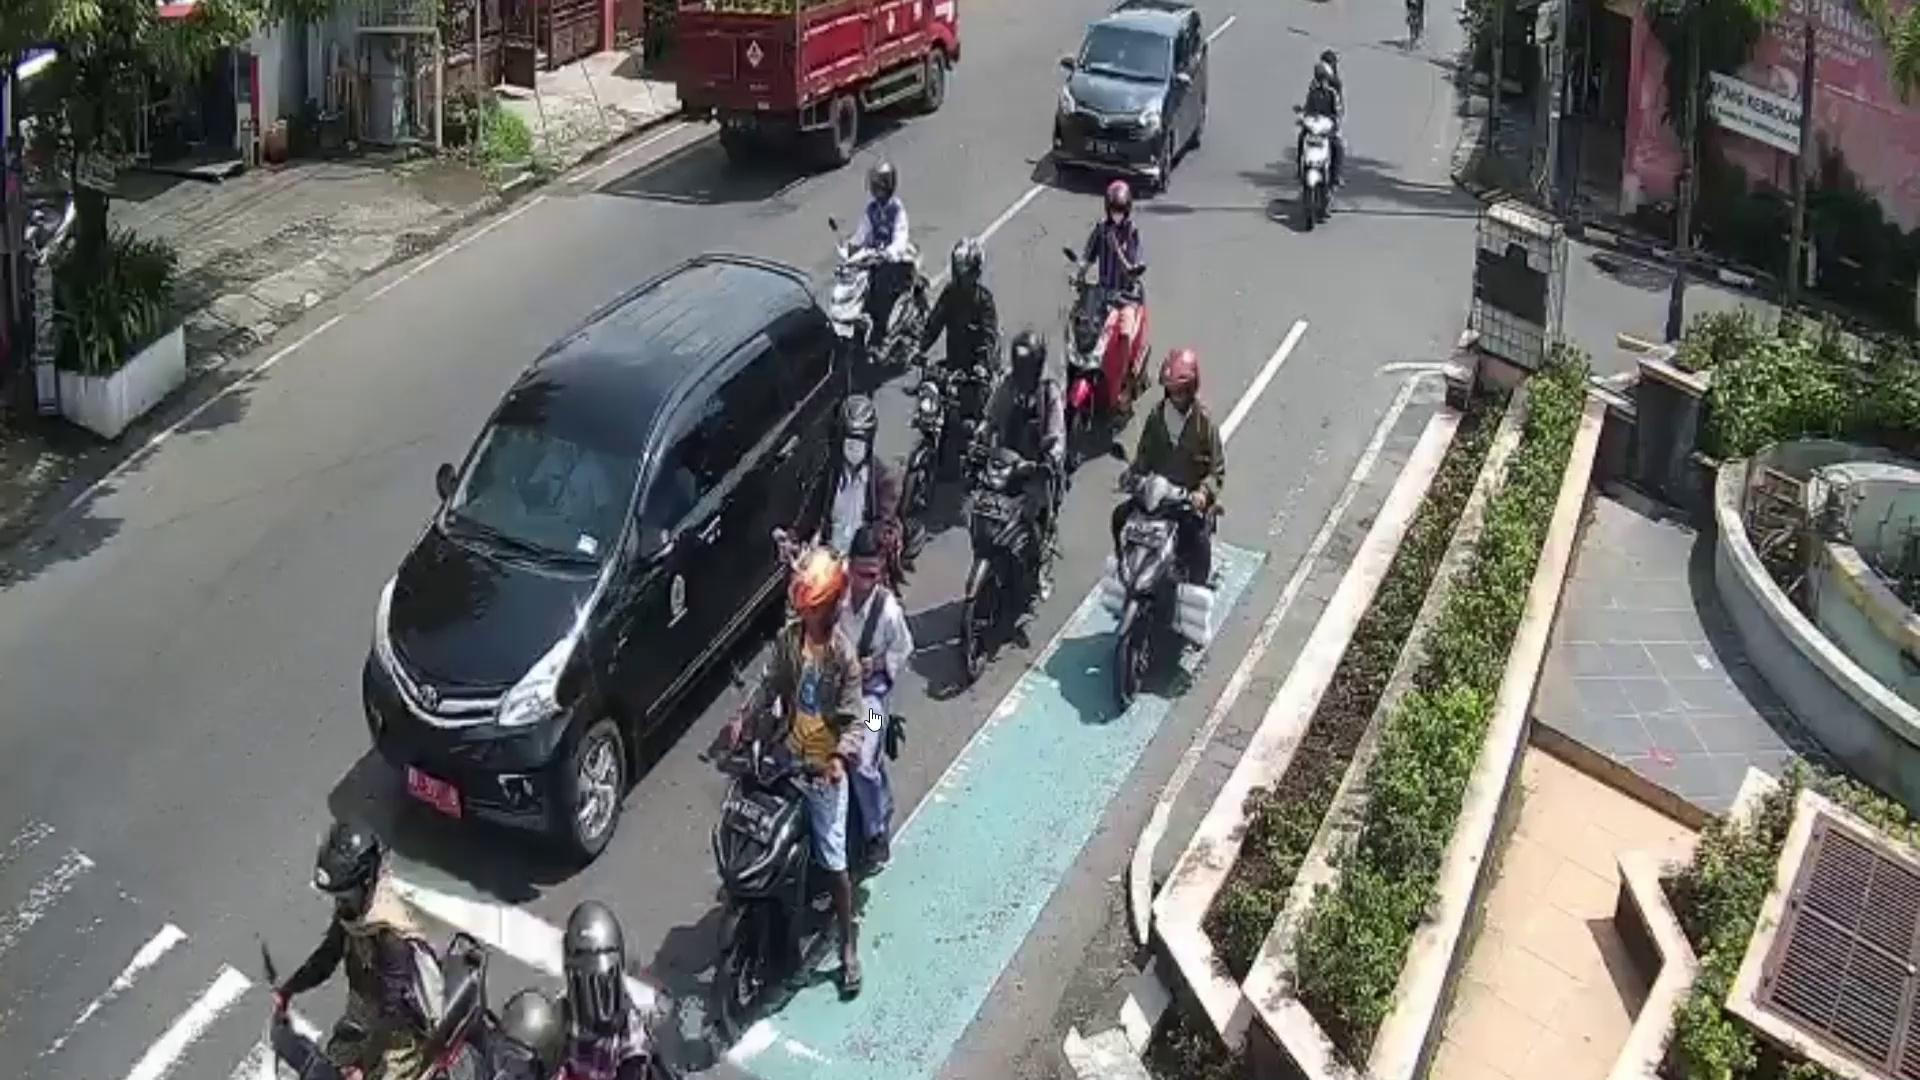car: (363, 252, 853, 861), (1048, 0, 1207, 191)
motorbike: (709, 696, 897, 1019), (960, 448, 1039, 695), (1065, 272, 1149, 465), (1116, 473, 1180, 709), (827, 241, 932, 342), (906, 365, 960, 505), (1294, 107, 1336, 232)
truck: (675, 0, 961, 166)
